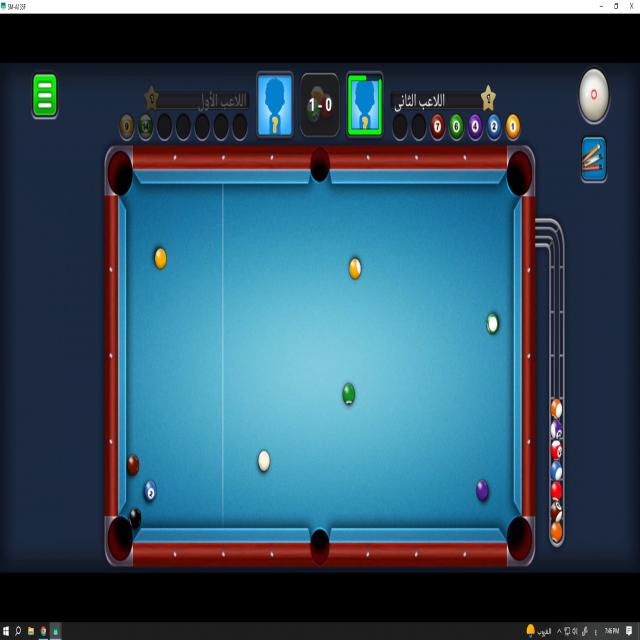object_ball: (476, 480, 488, 501), (129, 508, 141, 529), (127, 455, 139, 475), (155, 248, 166, 269), (145, 480, 156, 501), (343, 384, 354, 405), (487, 313, 498, 334), (349, 258, 360, 279)
white_cue_ball: (258, 451, 270, 471)
